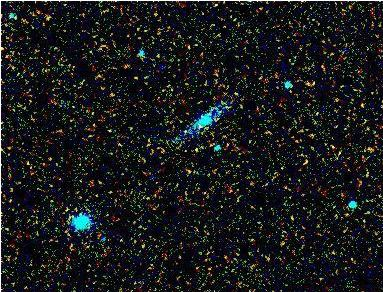star: (292, 67, 322, 97)
